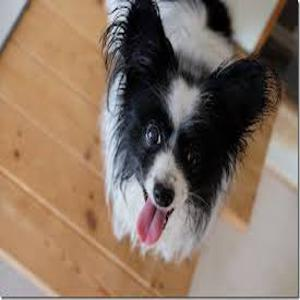yell: (97, 1, 276, 262)
